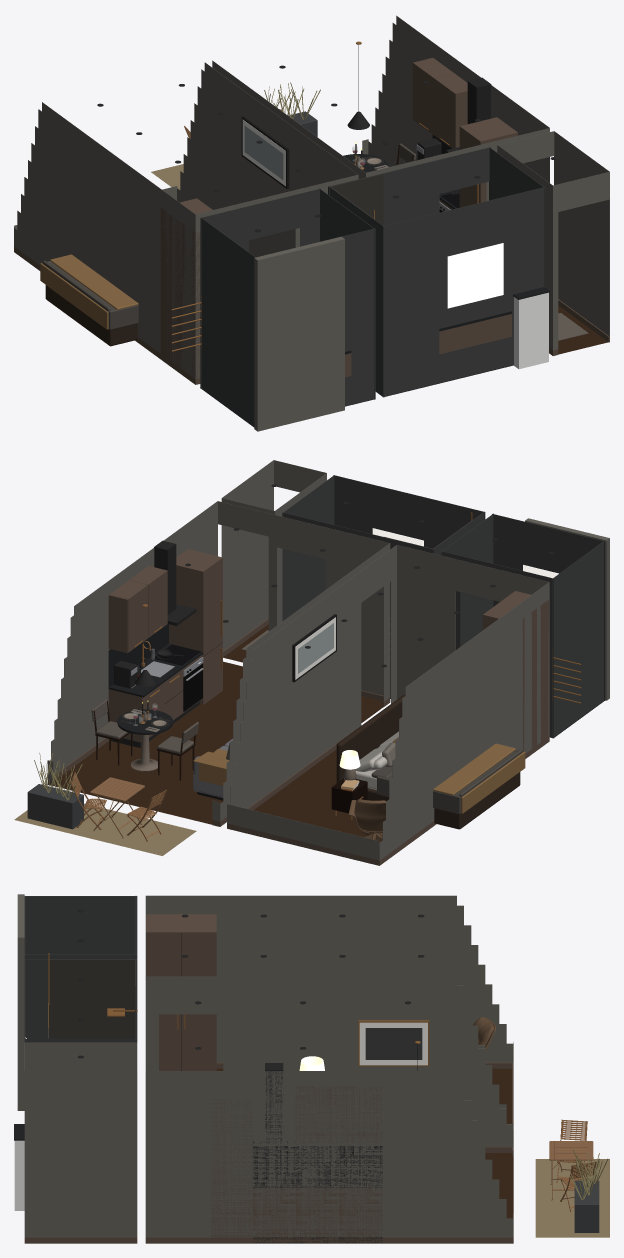
Rendered from unit-2.A-noir.glb.
3 renders of one model, top to bottom at view 1: azimuth 30°, elevation 25°; view 2: azimuth 150°, elevation 25°; view 3: azimuth 270°, elevation 25°, orthographic. The views are drawn at different scales.
Parts seen in each view (by area): view 1: int-wall, int-bathWall, int-joineryTall, int-joinery, int-ledStrip, int-bedThrow, int-whiteGloss, int-matteBlack, int-showerWall, int-headboard, int-duvet, int-art:6:0 (+7 smaller); view 2: int-wall, int-bathWall, int-floor, int-joineryTall, int-joinery, int-headboard, int-deck, int-skirting, int-matteBlack, int-bedThrow, int-outdoor, int-worktop (+20 smaller); view 3: int-wall, int-joineryTall, int-bathWall, int-joinery, int-showerWall, int-deck, int-skirting, int-splash, int-floor, int-art:5:2, int-matteBlack, int-outdoor (+7 smaller).
Part boxes in pixels (box(x1,y1,x2,y2)): int-wall: box(14, 15, 609, 431); int-bathWall: box(200, 147, 545, 426); int-joineryTall: box(160, 117, 517, 384); int-joinery: box(412, 58, 467, 209); int-ledStrip: box(447, 243, 503, 308); int-bedThrow: box(40, 254, 138, 329); int-whiteGloss: box(514, 292, 548, 369); int-matteBlack: box(347, 77, 491, 194); int-showerWall: box(328, 174, 383, 225); int-headboard: box(45, 285, 137, 346); int-duvet: box(43, 260, 138, 329); int-art:6:0: box(244, 126, 283, 179); int-wall: box(47, 460, 609, 860); int-bathWall: box(282, 475, 604, 737); int-floor: box(54, 661, 383, 842); int-joineryTall: box(169, 549, 548, 751); int-joinery: box(108, 566, 202, 742); int-headboard: box(336, 694, 520, 829); int-deck: box(14, 803, 196, 855); int-skirting: box(47, 618, 549, 865); int-matteBlack: box(111, 540, 199, 747); int-bedThrow: box(433, 743, 525, 813); int-outdoor: box(27, 784, 83, 829); int-worktop: box(108, 643, 203, 734); int-wall: box(17, 894, 513, 1237); int-joineryTall: box(146, 914, 252, 1243); int-bathWall: box(24, 896, 137, 1042); int-joinery: box(253, 1086, 382, 1237); int-showerWall: box(48, 959, 137, 1038); int-deck: box(535, 1159, 609, 1237); int-skirting: box(24, 1062, 513, 1243); int-splash: box(253, 1146, 382, 1185); int-floor: box(216, 1068, 513, 1218); int-art:5:2: box(365, 1028, 422, 1059); int-matteBlack: box(253, 1063, 382, 1243); int-outdoor: box(574, 1180, 599, 1232).
Size of the model in its own units: 6.37 by 2.8 by 8.41.
